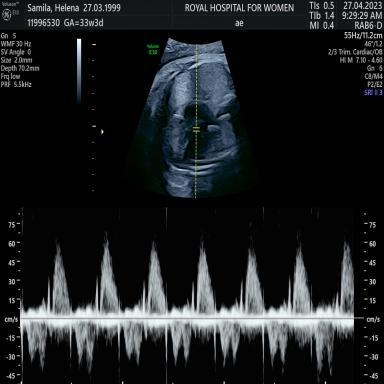Ultrasound-Waves: (27, 208, 354, 384)
